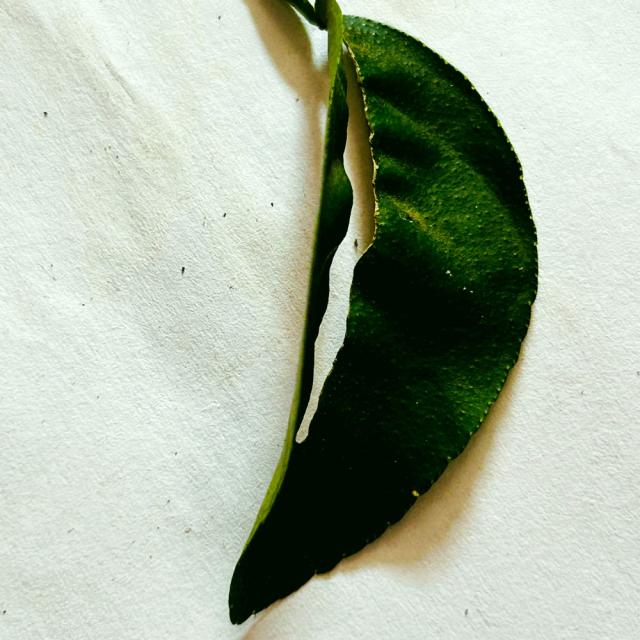Deficiency Leaf: (296, 49, 374, 442), (256, 4, 326, 440), (295, 149, 352, 432)
Lemon: (230, 15, 537, 624)
